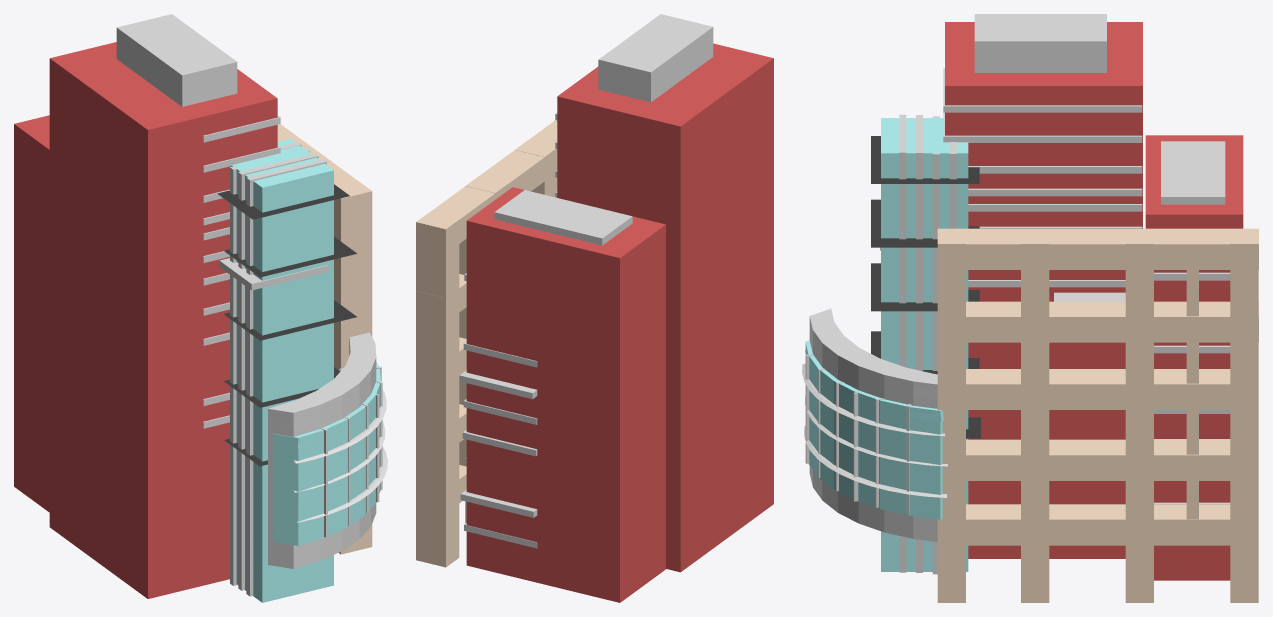
File: 電機奇美樓.fbx
3 renders of one model, left to right at view 1: azimuth 30°, elevation 25°; view 2: azimuth 150°, elevation 25°; view 3: azimuth 270°, elevation 25°, orthographic. The views are drawn at different scales.
Visible parts, largest first — view 1: 立方體.015, 立方體.004, 立方體.016, 圓柱體.001, 圓柱體, 立方體.028, 立方體.001, 立方體.003, 立方體.002, 立方體.005, 立方體.044, 立方體 (+7 smaller); view 2: 立方體.016, 立方體.015, 立方體.001, 立方體.028, 立方體.030, 立方體.024, 立方體.008, 立方體.010, 立方體.023, 立方體.025, 立方體.009; view 3: 立方體.001, 立方體.015, 立方體.016, 立方體.004, 圓柱體.001, 圓柱體, 立方體.028, 立方體.030, 立方體.003, 立方體.002, 立方體.029, 立方體.031 (+12 smaller).
Part boxes in pixels (x1=…): 立方體.015: x1=49, y1=42, x2=277, y2=598; 立方體.004: x1=230, y1=138, x2=333, y2=602; 立方體.016: x1=14, y1=115, x2=49, y2=512; 圓柱體.001: x1=272, y1=362, x2=380, y2=545; 圓柱體: x1=268, y1=332, x2=376, y2=568; 立方體.028: x1=116, y1=14, x2=237, y2=106; 立方體.001: x1=277, y1=124, x2=372, y2=554; 立方體.003: x1=246, y1=159, x2=326, y2=596; 立方體.002: x1=238, y1=153, x2=318, y2=590; 立方體.005: x1=230, y1=148, x2=310, y2=585; 立方體.044: x1=219, y1=258, x2=328, y2=290; 立方體: x1=217, y1=184, x2=349, y2=219; 立方體.016: x1=466, y1=187, x2=665, y2=602; 立方體.015: x1=557, y1=43, x2=773, y2=572; 立方體.001: x1=416, y1=120, x2=557, y2=567; 立方體.028: x1=598, y1=14, x2=713, y2=102; 立方體.030: x1=494, y1=190, x2=632, y2=245; 立方體.024: x1=459, y1=370, x2=537, y2=399; 立方體.008: x1=460, y1=490, x2=537, y2=517; 立方體.010: x1=462, y1=430, x2=537, y2=456; 立方體.023: x1=463, y1=399, x2=537, y2=424; 立方體.025: x1=463, y1=342, x2=537, y2=367; 立方體.009: x1=464, y1=523, x2=537, y2=548; 立方體.001: x1=937, y1=228, x2=1258, y2=602; 立方體.015: x1=945, y1=22, x2=1142, y2=558; 立方體.016: x1=1145, y1=135, x2=1243, y2=580; 立方體.004: x1=881, y1=118, x2=968, y2=571; 圓柱體.001: x1=805, y1=340, x2=943, y2=519; 圓柱體: x1=809, y1=308, x2=937, y2=541; 立方體.028: x1=974, y1=14, x2=1106, y2=72; 立方體.030: x1=1161, y1=141, x2=1225, y2=204; 立方體.003: x1=899, y1=114, x2=906, y2=572; 立方體.002: x1=916, y1=115, x2=922, y2=572; 立方體.029: x1=943, y1=68, x2=1142, y2=112; 立方體.031: x1=943, y1=112, x2=1142, y2=142.
Size of the model in its own units: 3150 by 6679 by 5453.
